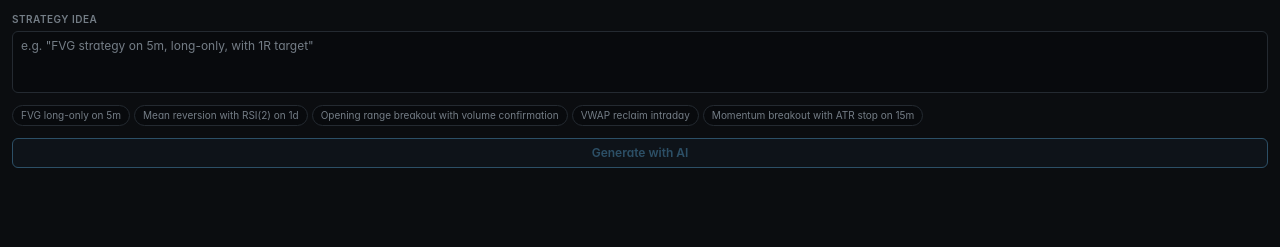
<AIPromptTab /> › 412 response renders the no-default-provider banner with Providers link
Type "FVG strategy on 5m long-only" into the text box named "strategy idea prompt" at [640, 62], box [12,31,1268,93]
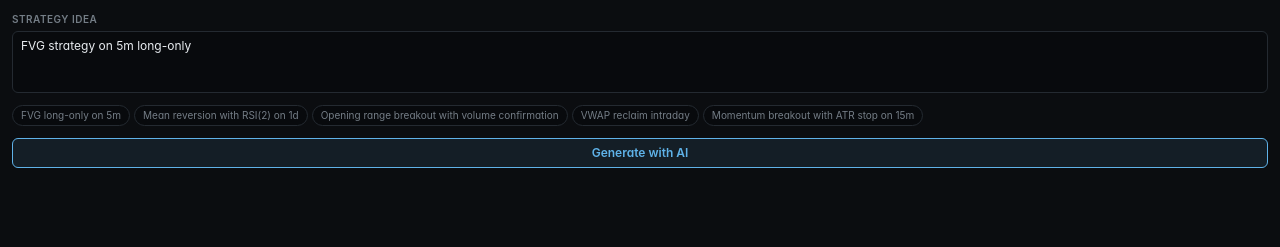
Click the button with test id "ai-generate-btn" at [640, 153], box [12,138,1268,168]
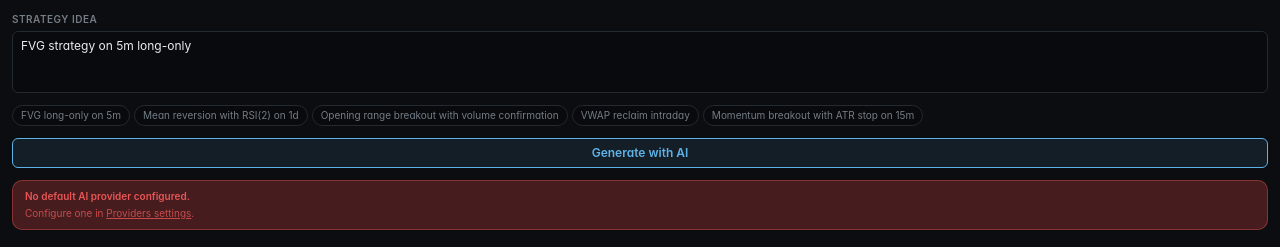
Expected: the message "No default AI provider configured. Configure one in Providers settings ." is shown, [12,180,1268,230]
Expected: the text "No default AI provider configured." is shown, [25,190,190,202]
